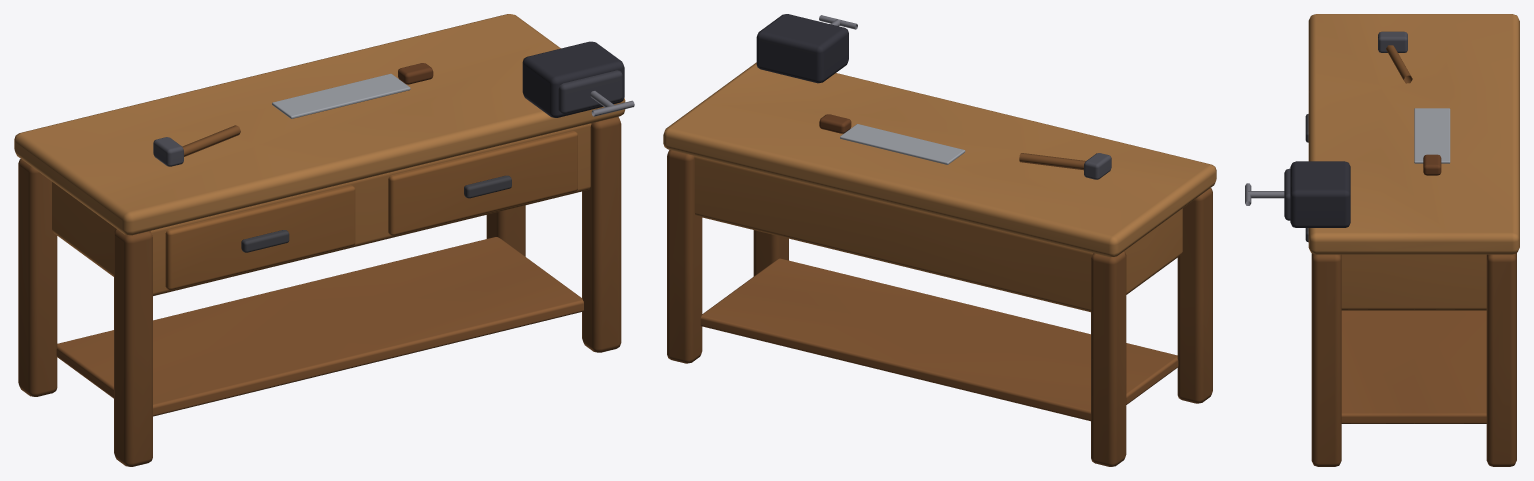
Rendered from furn_workbench.glb.
3 renders of one model, left to right at view 1: azimuth 30°, elevation 25°; view 2: azimuth 150°, elevation 25°; view 3: azimuth 270°, elevation 25°, orthographic. The views are drawn at different scales.
Visible parts, largest first — view 1: furn_workbench_main; view 2: furn_workbench_main; view 3: furn_workbench_main.
Boxes of the visible parts, left/top/right/bottom form: furn_workbench_main: left=14, top=14, right=634, bottom=466; furn_workbench_main: left=663, top=14, right=1216, bottom=466; furn_workbench_main: left=1245, top=14, right=1519, bottom=466.
Bounding box in the file's own units: 1.76 × 1 × 0.91.
